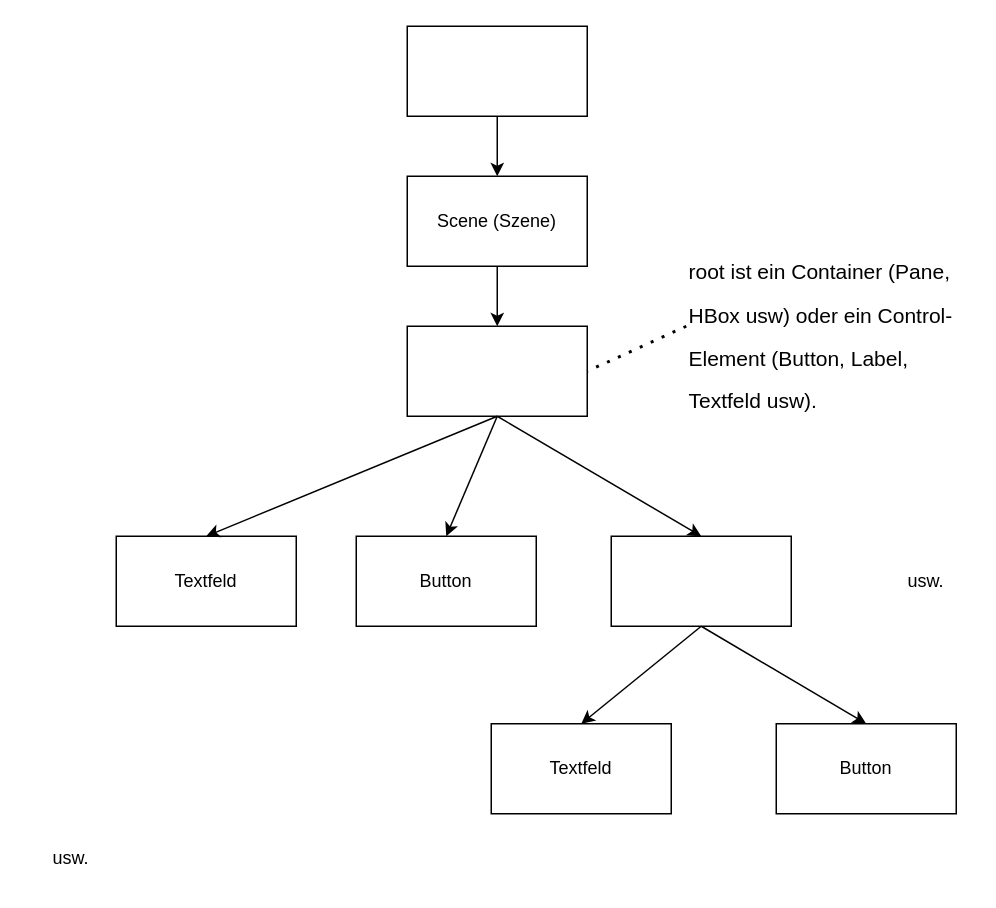
Image size: 996x908. Some labels were removed from this diagram. Each missing label, with the box of its shape:
root (HBox): (406, 325, 587, 416)
Stage (Bühne): (406, 25, 587, 116)
VBox: (610, 535, 791, 626)
